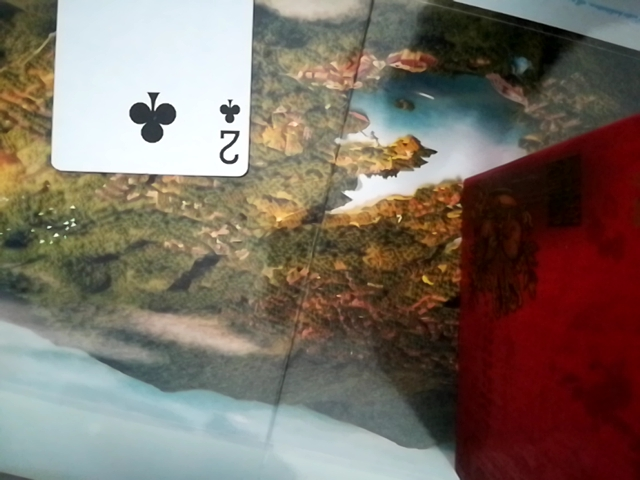mh 2: (47, 0, 255, 180)
